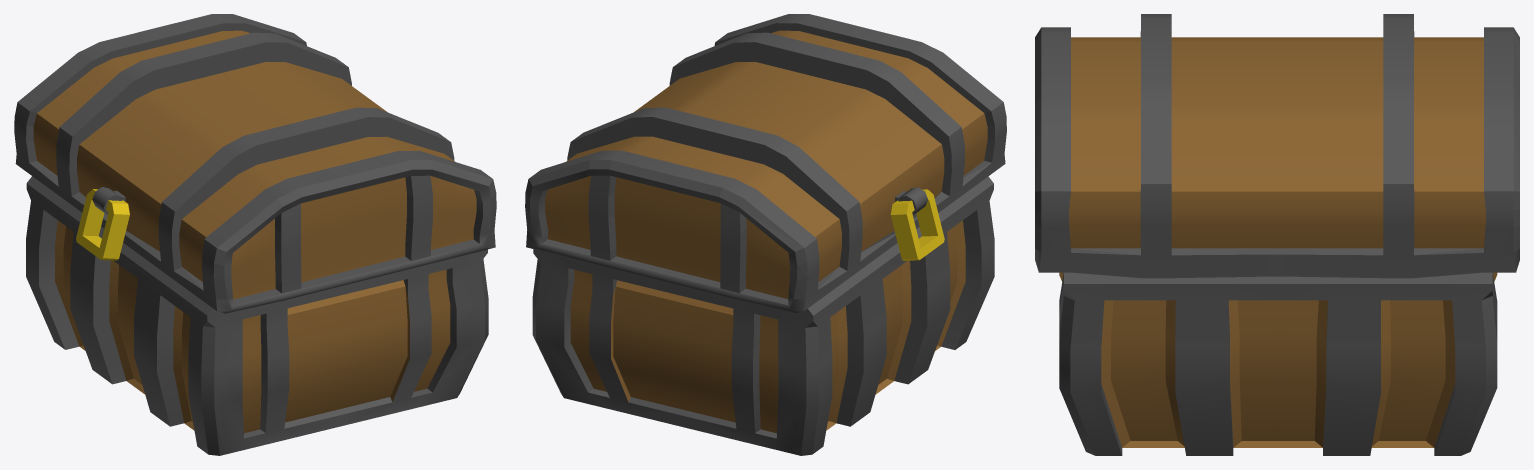
File: Chest.FBX
The picture shows the model from 3 angles, left to right: view 1: azimuth 30°, elevation 25°; view 2: azimuth 150°, elevation 25°; view 3: azimuth 270°, elevation 25°; orthographic projection. The views are drawn at different scales.
Visible parts, largest first — view 1: Box005; view 2: Box005; view 3: Box005.
Boxes of the visible parts, x1,y1,x2,y2 form: Box005: (14, 14, 496, 455); Box005: (525, 14, 1006, 455); Box005: (1035, 14, 1519, 455).
Bounding box in the file's own units: 39.43 × 33.79 × 44.79.
